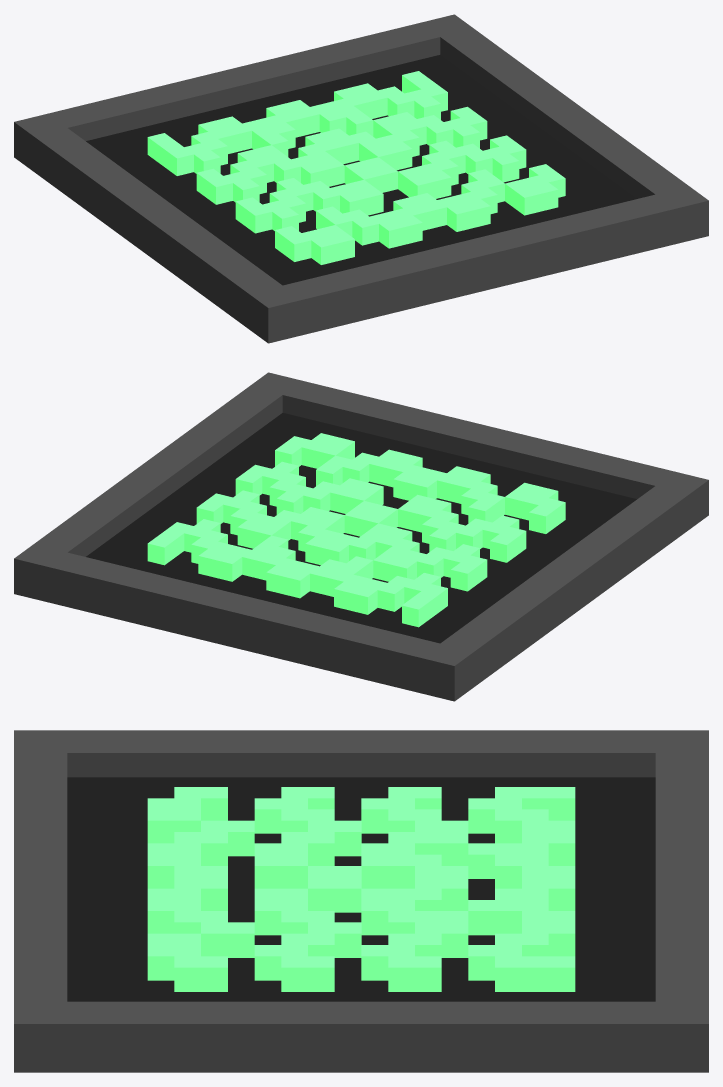
Rendered from trap_WAVES_GREEN.glb.
3 views of the same model, one above another, from view 1: azimuth 30°, elevation 25°; view 2: azimuth 150°, elevation 25°; view 3: azimuth 270°, elevation 25° (orthographic). The views are drawn at different scales.
Parts seen in each view (by area): view 1: item_TRAP_WAVES_GREEN; view 2: item_TRAP_WAVES_GREEN; view 3: item_TRAP_WAVES_GREEN.
Boxes of the visible parts, box(x1,y1,x2,y2) form: item_TRAP_WAVES_GREEN: box(14, 14, 708, 343); item_TRAP_WAVES_GREEN: box(14, 372, 708, 701); item_TRAP_WAVES_GREEN: box(14, 730, 708, 1072).
Bounding box in the file's own units: 0.5909 × 0.0455 × 0.5909.
Materials: 1 (1 with a texture image).
